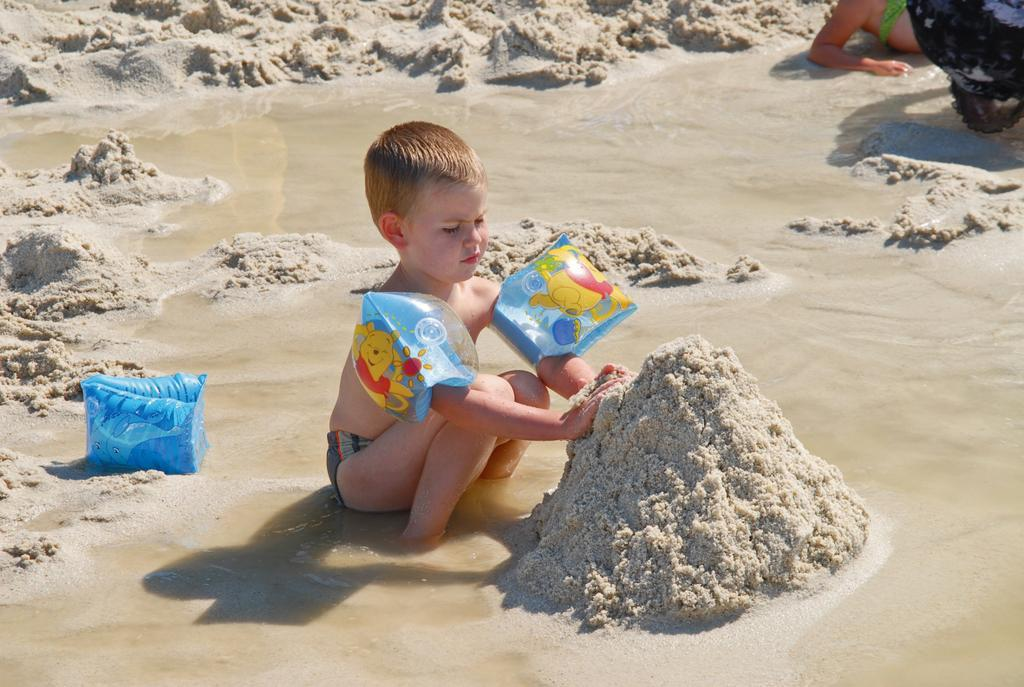face: (407, 171, 493, 285)
